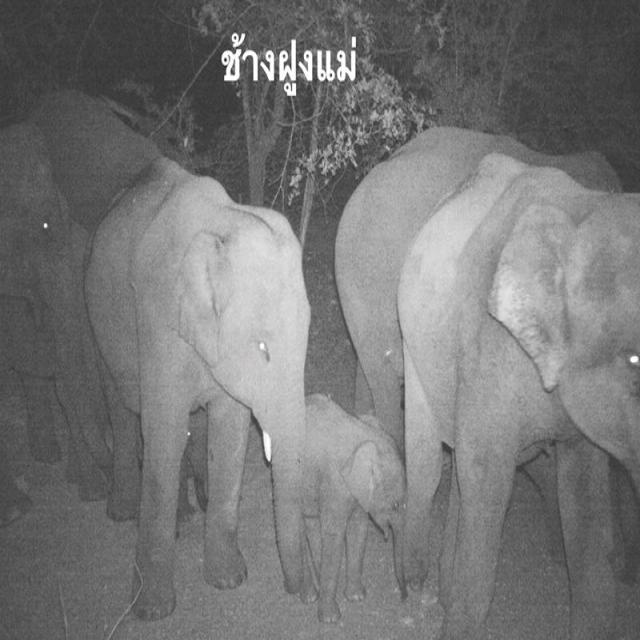Elephant: (387, 138, 640, 639), (84, 152, 321, 640), (272, 378, 406, 626)
